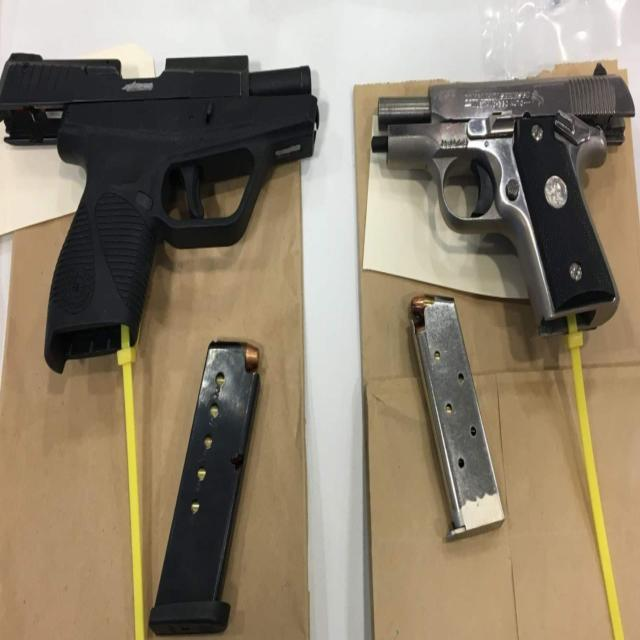HandGun: (1, 55, 321, 374), (371, 62, 637, 332)
